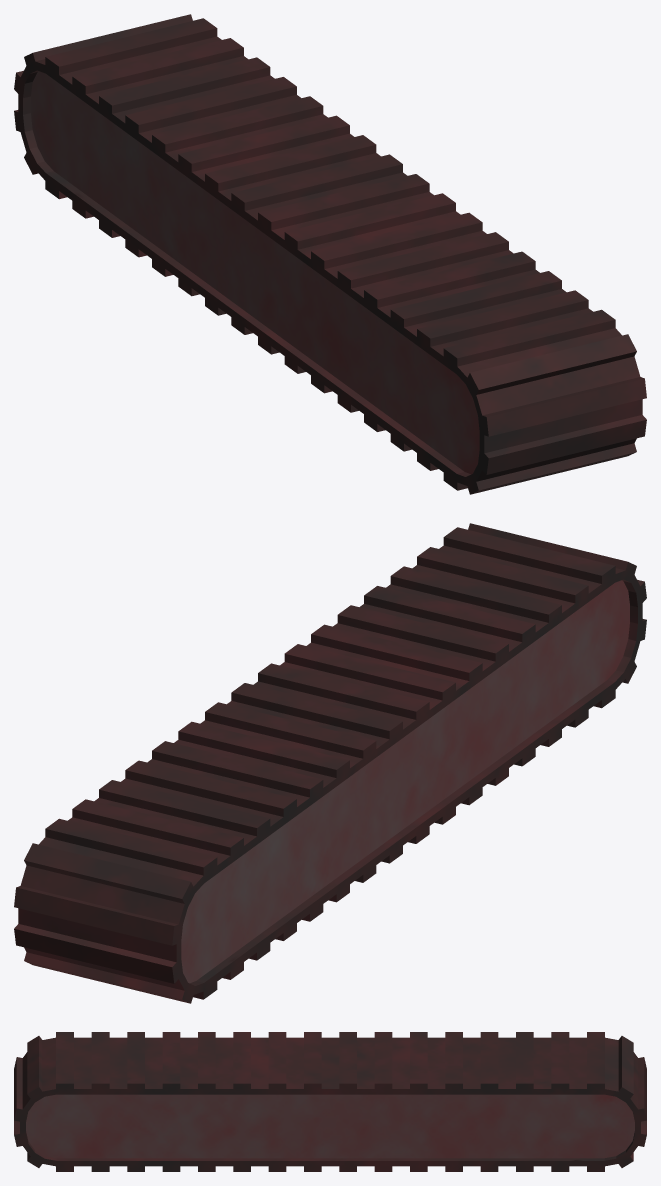
File: enemyTire.obj
3 renders of one model, top to bottom at view 1: azimuth 30°, elevation 25°; view 2: azimuth 150°, elevation 25°; view 3: azimuth 270°, elevation 25°, orthographic. The views are drawn at different scales.
Visible parts, largest first — view 1: タイヤ; view 2: タイヤ; view 3: タイヤ.
Boxes of the visible parts, x1=… form: タイヤ: x1=14, y1=14, x2=646, y2=494; タイヤ: x1=14, y1=523, x2=646, y2=1003; タイヤ: x1=14, y1=1032, x2=646, y2=1171.
Bounding box in the file's own units: 1 × 0.8 × 5.2.
1 material, 1 textured.
